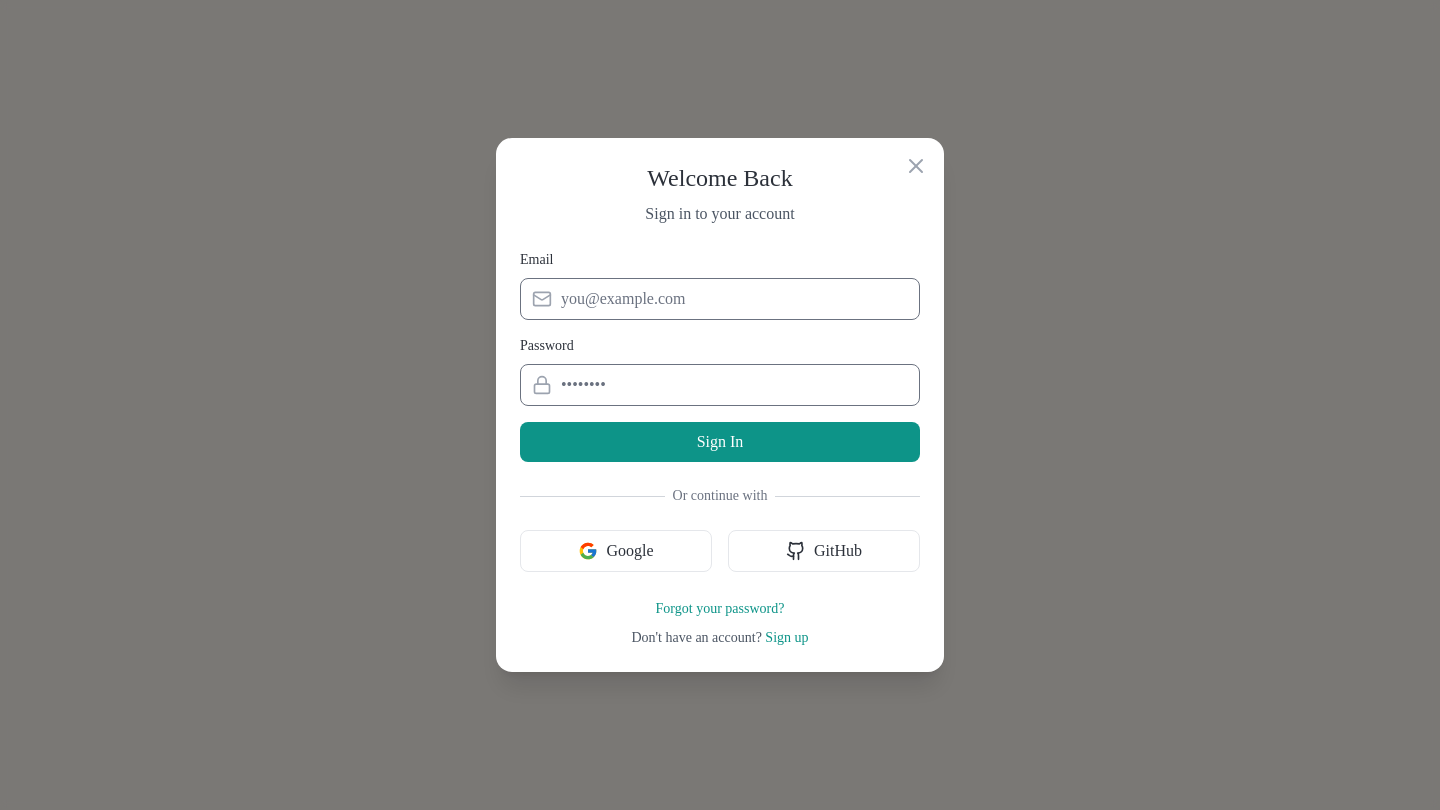
Scenario: AuthModal › validates required fields in login form
What coordinates should you click on to do the following:
click the button "Sign In"
I would click on:
 (720, 442)
Its box is [520,422,920,462].
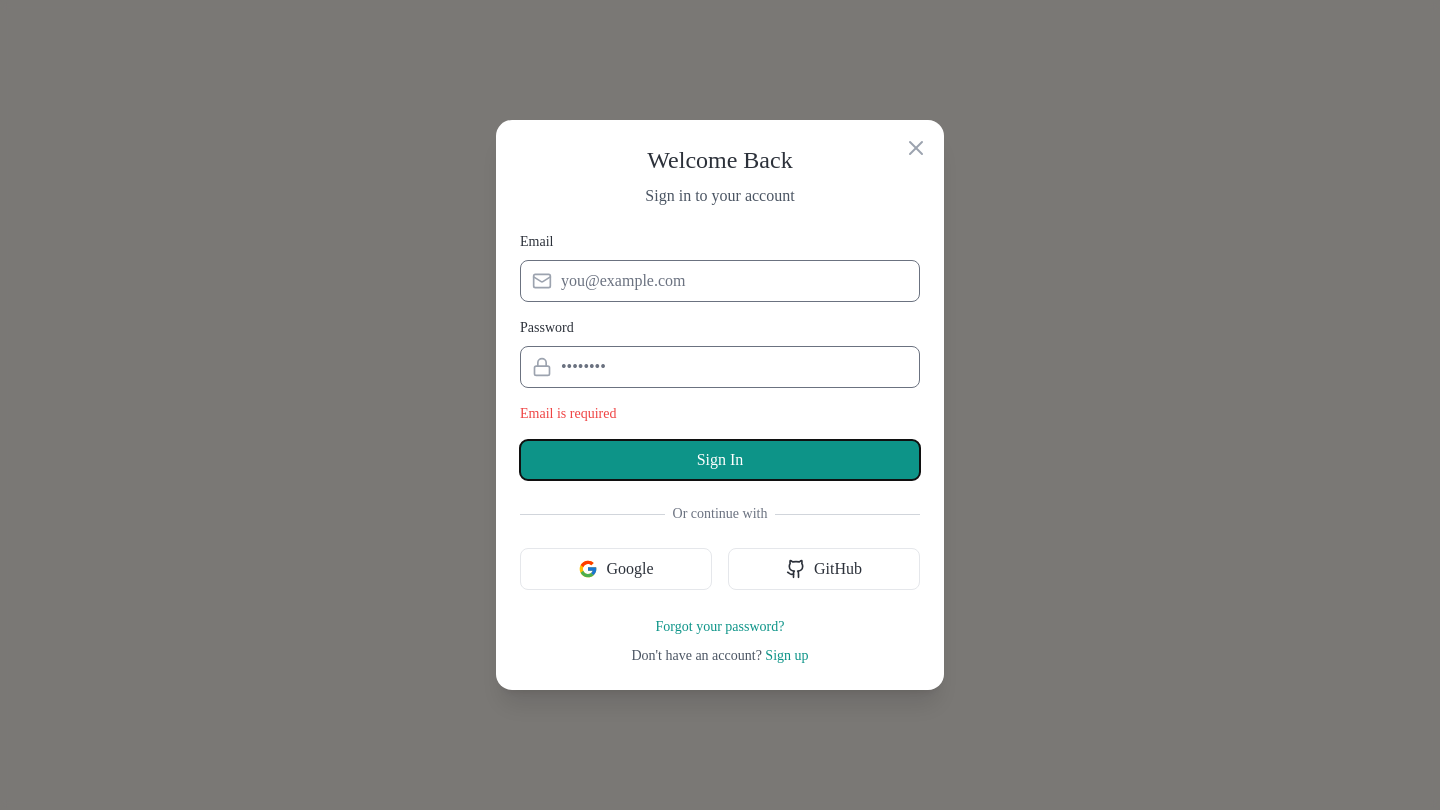
expect the text "Email is required" is shown: met, box [520,406,616,421]
